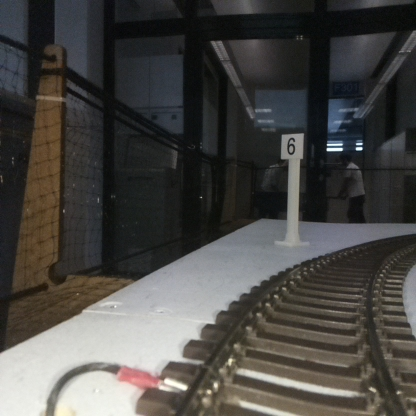white-info-6: (281, 133, 303, 244)
